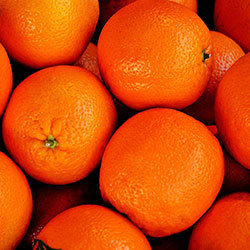orange: (103, 104, 224, 247), (1, 62, 131, 187), (97, 1, 203, 115), (1, 2, 111, 70), (30, 201, 152, 250)
